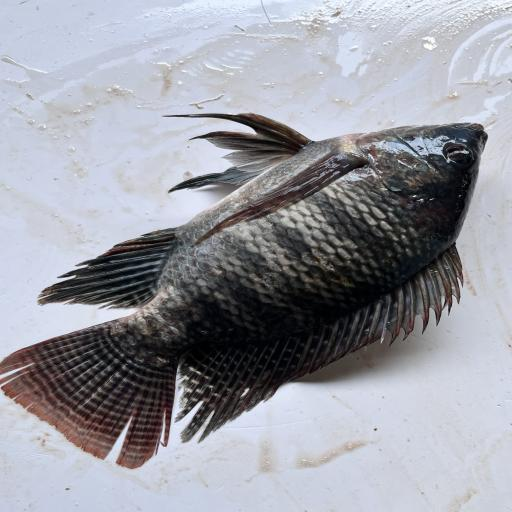Tilapia: (0, 113, 488, 469)
